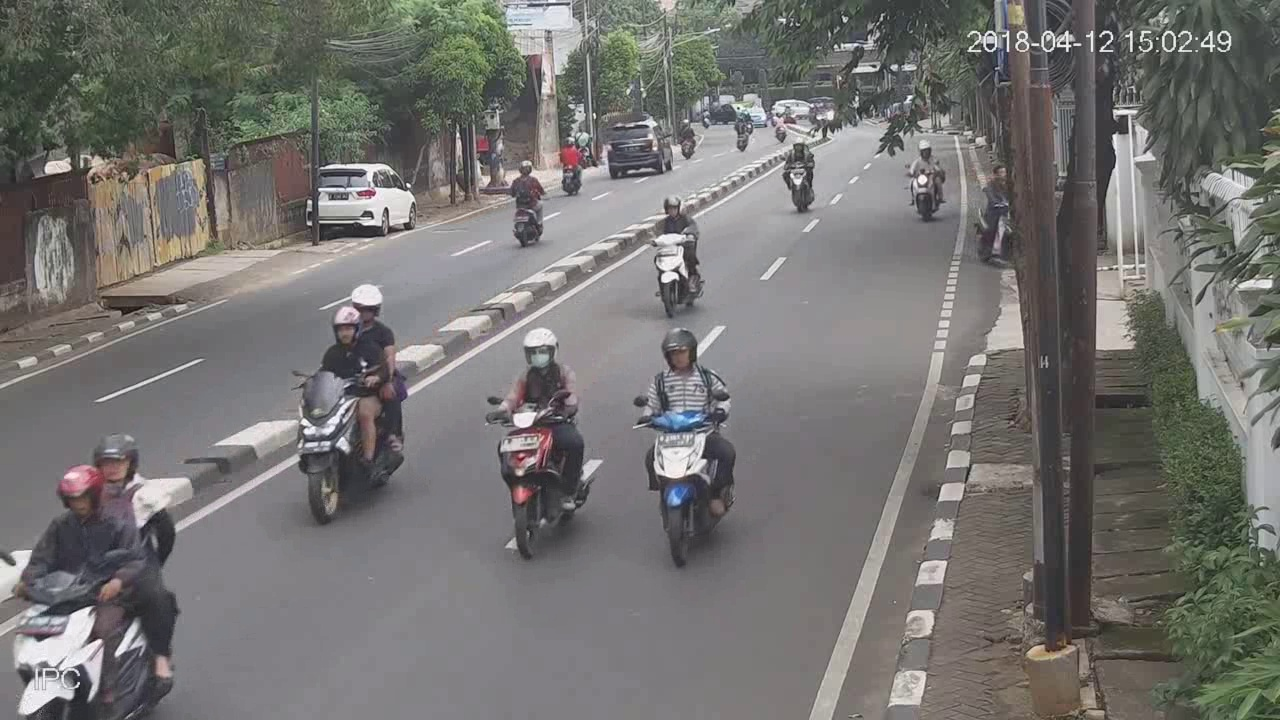car: (308, 159, 422, 238), (607, 119, 677, 178)
motorcycle: (4, 428, 181, 720), (295, 282, 411, 528), (628, 328, 739, 572), (484, 324, 595, 564), (646, 193, 708, 319), (500, 155, 553, 250), (904, 134, 947, 230), (778, 128, 820, 214), (554, 130, 585, 199)
